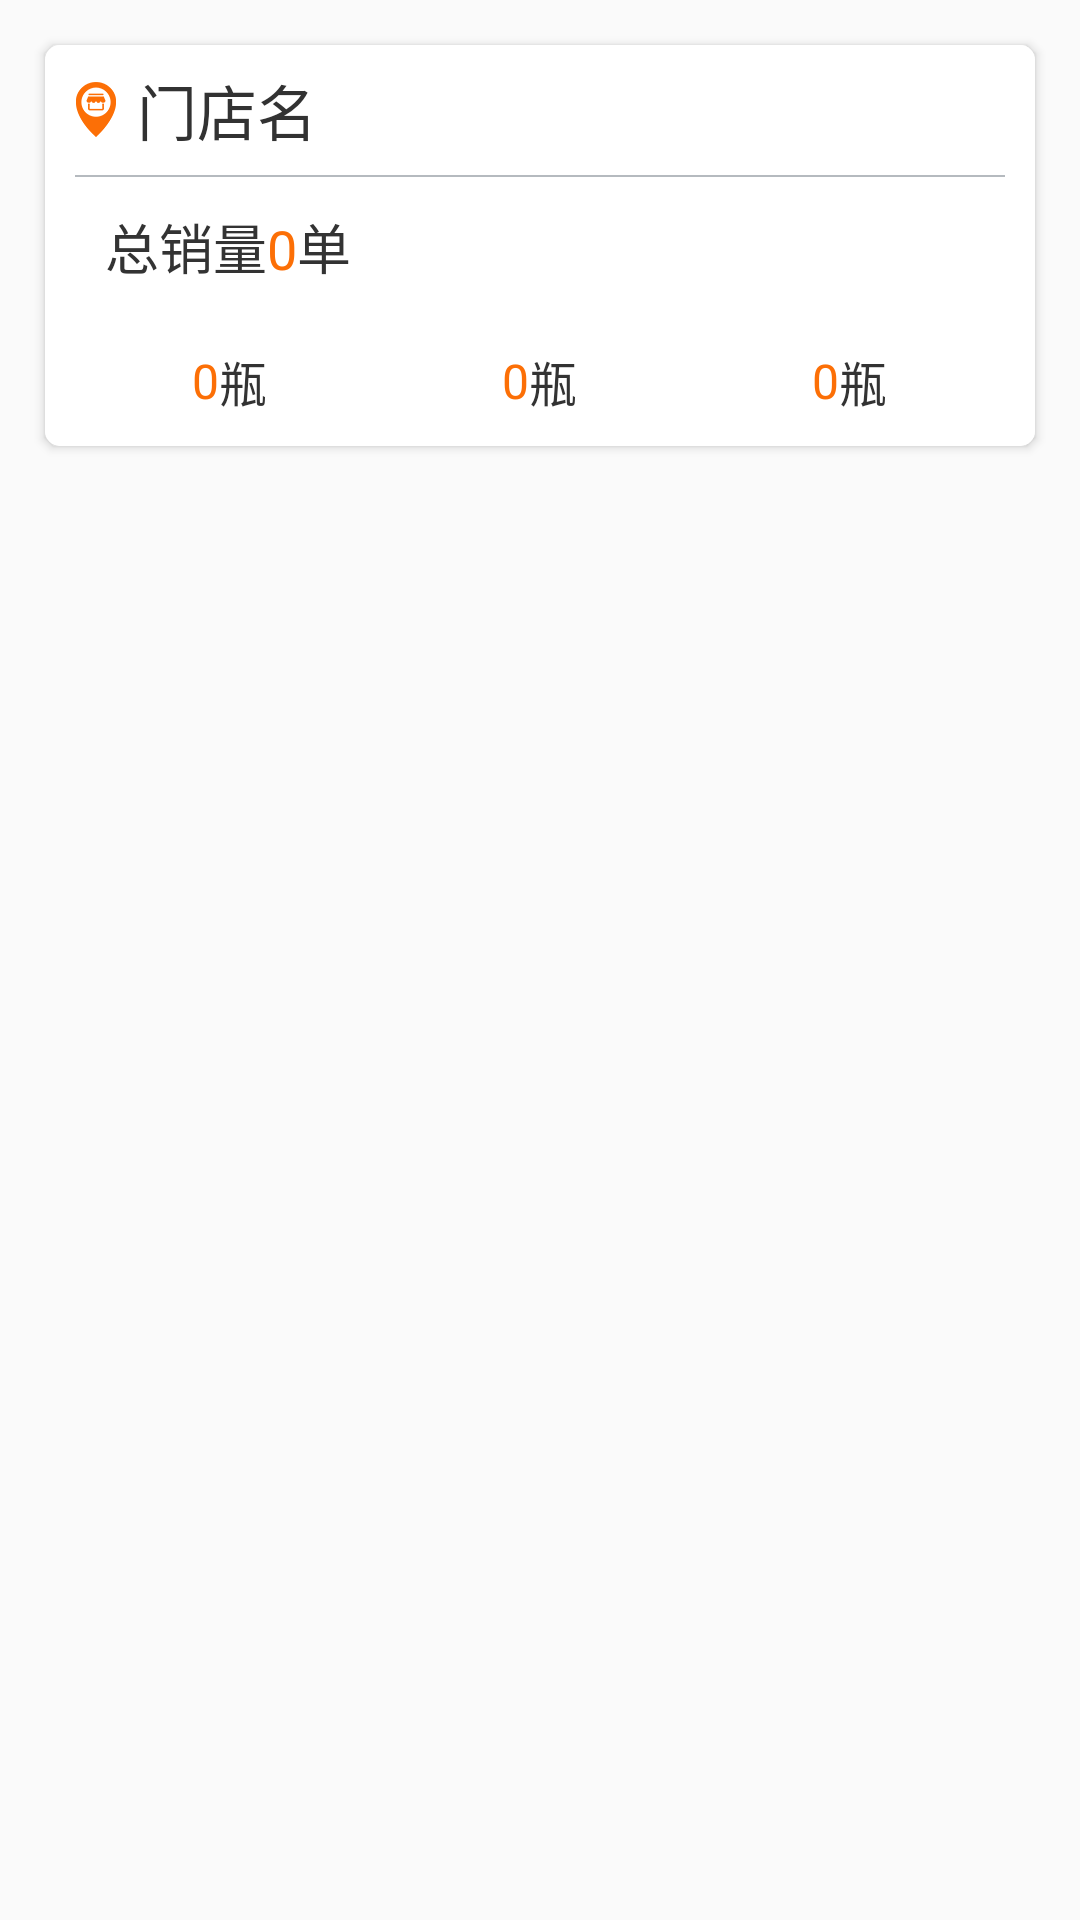

Locate icon controls on the screen. Image size 1080×1920, boxes as (x1, y1, x2, y2).
store: (76, 82, 116, 137)
